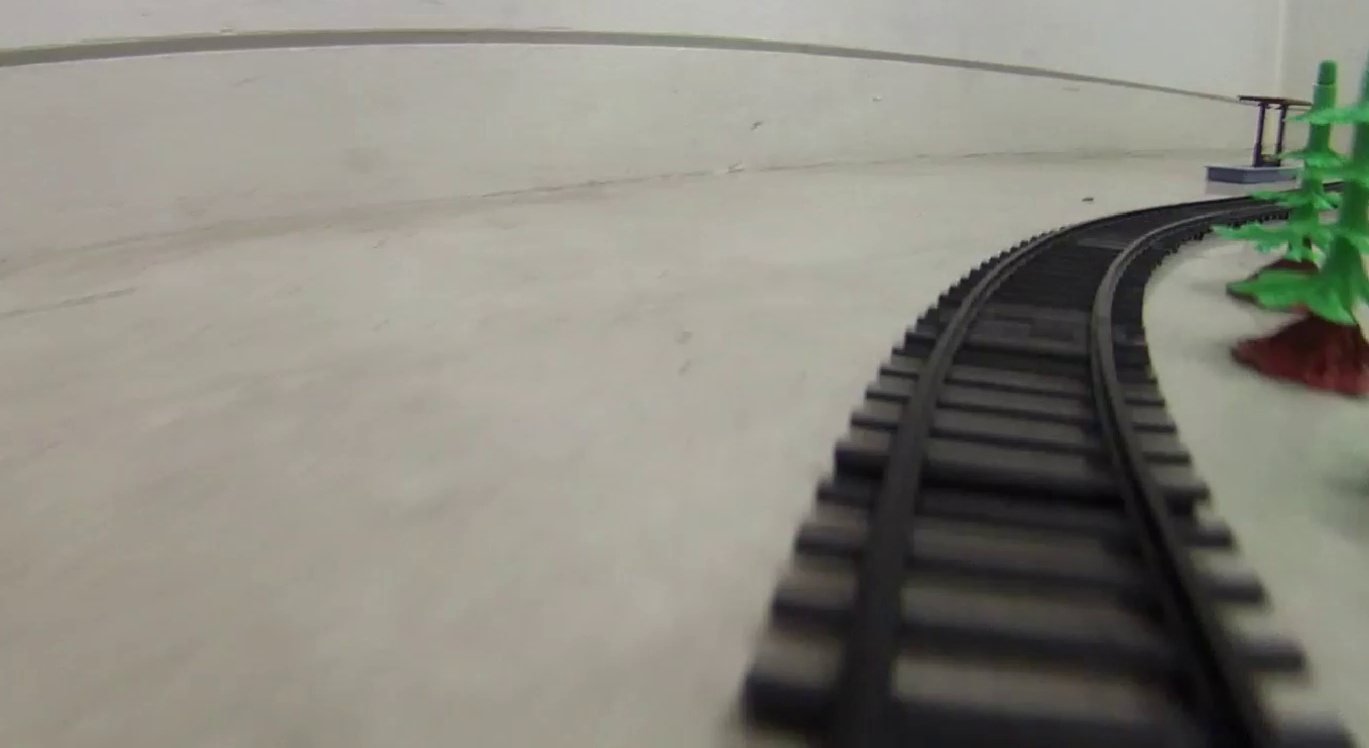tree: (1236, 56, 1343, 309)
